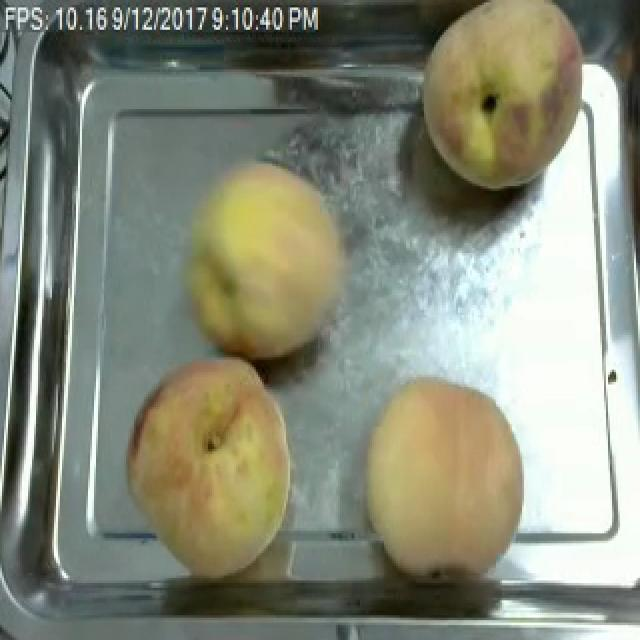Fruit: (118, 345, 304, 583), (172, 146, 362, 370), (348, 367, 536, 588), (408, 0, 606, 206)
